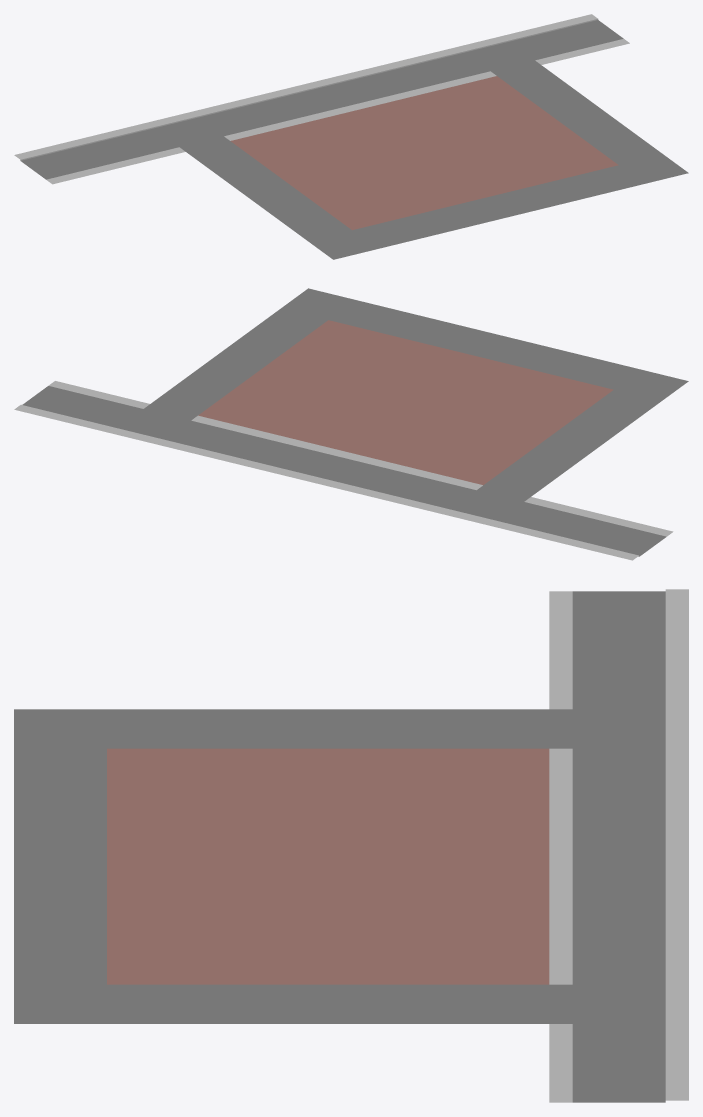
Rendered from library.glb.
3 renders of one model, top to bottom at view 1: azimuth 30°, elevation 25°; view 2: azimuth 150°, elevation 25°; view 3: azimuth 270°, elevation 25°, orthographic. The views are drawn at different scales.
Parts seen in each view (by area): view 1: Square, Plane; view 2: Square, Plane; view 3: Square, Plane.
Boxes of the visible parts, left/top/right/bottom form: Square: left=46, top=39, right=688, bottom=259; Plane: left=14, top=14, right=623, bottom=179; Square: left=48, top=288, right=688, bottom=536; Plane: left=14, top=386, right=666, bottom=560; Square: left=14, top=591, right=572, bottom=1102; Plane: left=572, top=589, right=688, bottom=1102.
Bounding box in the file's own units: 52 × 0.1 × 29.
